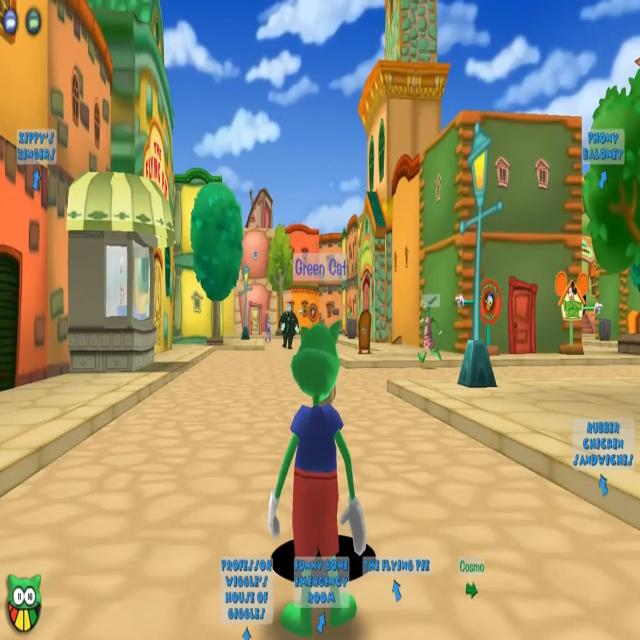tightwad: (278, 311, 300, 352)
